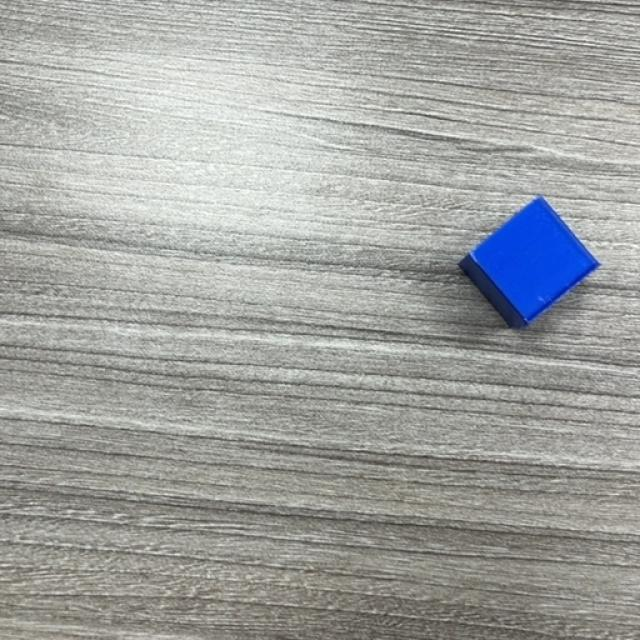Azul: (458, 198, 600, 331)
